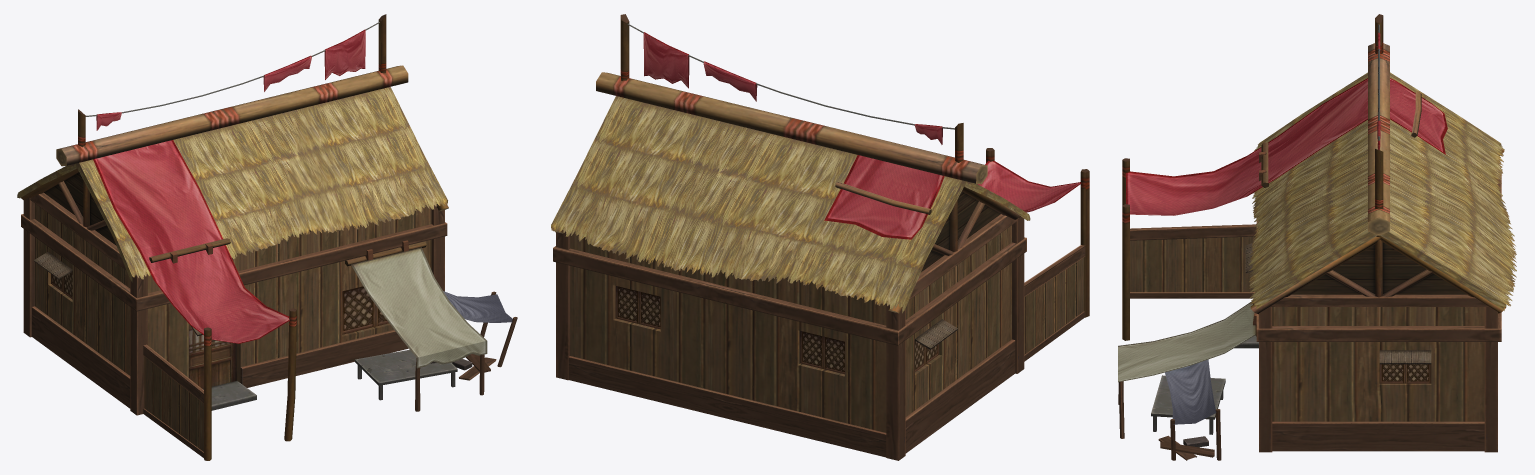
File: SV_BUD_forest_zawu_0.FBX
3 renders of one model, left to right at view 1: azimuth 30°, elevation 25°; view 2: azimuth 150°, elevation 25°; view 3: azimuth 270°, elevation 25°, orthographic. The views are drawn at different scales.
Parts seen in each view (by area): view 1: SV_BUD_forest_zawu_0, SV_BUD_forest_zawu_0_wuding; view 2: SV_BUD_forest_zawu_0, SV_BUD_forest_zawu_0_wuding; view 3: SV_BUD_forest_zawu_0, SV_BUD_forest_zawu_0_wuding.
Boxes of the visible parts, left/top/right/bottom form: SV_BUD_forest_zawu_0: left=21, top=14, right=517, bottom=460; SV_BUD_forest_zawu_0_wuding: left=17, top=87, right=447, bottom=282; SV_BUD_forest_zawu_0: left=552, top=14, right=1089, bottom=460; SV_BUD_forest_zawu_0_wuding: left=551, top=96, right=1030, bottom=313; SV_BUD_forest_zawu_0: left=1118, top=14, right=1505, bottom=460; SV_BUD_forest_zawu_0_wuding: left=1248, top=72, right=1516, bottom=310.
Size of the model in its own units: 11.84 by 8.99 by 10.89.
